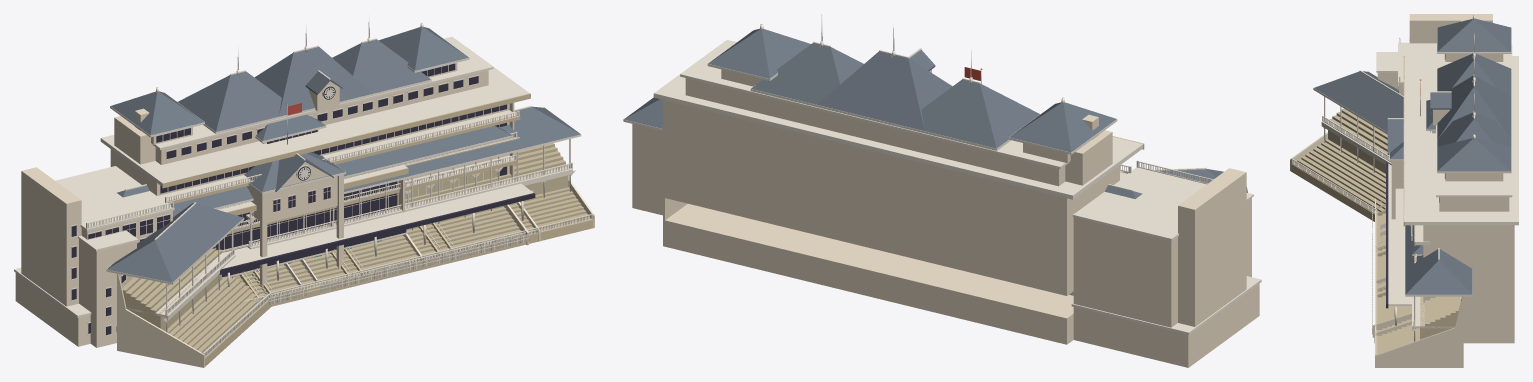
The model's file is newbury_kit.glb.
3 renders of one model, left to right at view 1: azimuth 30°, elevation 25°; view 2: azimuth 150°, elevation 25°; view 3: azimuth 270°, elevation 25°, orthographic. The views are drawn at different scales.
Parts seen in each view (by area): view 1: newbury_pagoda_stand, newbury_kinked_stand2, newbury_lookout_stand, newbury_glass_stand; view 2: newbury_pagoda_stand, newbury_kinked_stand2, newbury_lookout_stand; view 3: newbury_pagoda_stand, newbury_kinked_stand2, newbury_lookout_stand.
Boxes of the visible parts, <box> form: newbury_pagoda_stand: <box>14,14,540,346</box>; newbury_kinked_stand2: <box>106,103,594,367</box>; newbury_lookout_stand: <box>78,114,529,347</box>; newbury_glass_stand: <box>212,165,421,290</box>; newbury_pagoda_stand: <box>653,14,1261,367</box>; newbury_kinked_stand2: <box>623,67,1248,215</box>; newbury_lookout_stand: <box>1070,184,1253,295</box>; newbury_pagoda_stand: <box>1374,14,1518,343</box>; newbury_kinked_stand2: <box>1290,70,1472,367</box>; newbury_lookout_stand: <box>1372,52,1435,337</box>.
Size of the model in its own units: 102 by 42.35 by 42.57.
